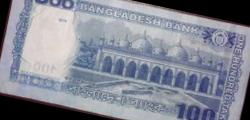100 taka: (7, 1, 245, 119)
